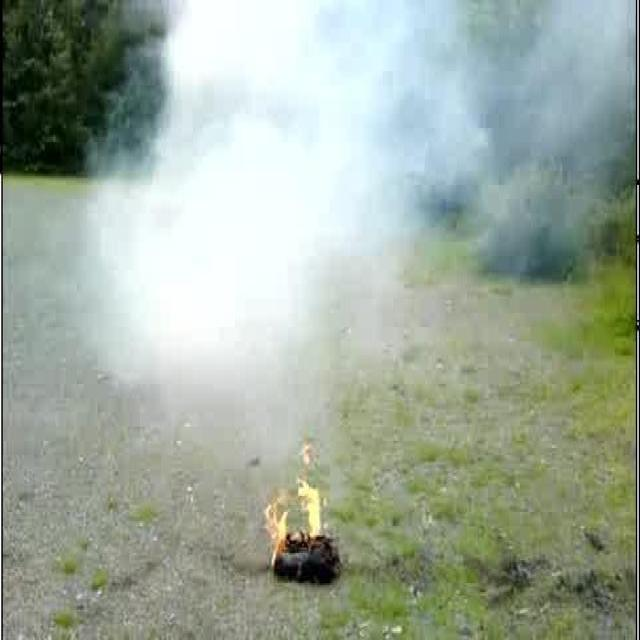Fire: (262, 441, 328, 570)
Smoke: (70, 0, 636, 394)
